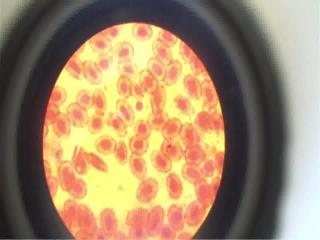cell: (165, 174, 187, 204), (99, 207, 121, 234), (66, 105, 90, 127), (182, 123, 206, 145), (136, 179, 158, 202), (78, 204, 96, 231), (166, 202, 184, 229), (83, 61, 104, 83), (173, 94, 194, 116), (131, 24, 153, 44), (160, 140, 182, 160), (150, 87, 168, 111), (69, 182, 93, 200), (153, 149, 171, 173), (114, 73, 131, 98), (152, 41, 172, 62), (53, 116, 73, 137), (76, 85, 94, 108), (64, 198, 82, 221), (118, 101, 137, 122), (114, 43, 137, 60), (86, 119, 110, 135), (129, 160, 153, 176), (184, 165, 205, 183), (92, 35, 114, 52), (92, 90, 109, 112), (185, 148, 211, 162), (158, 26, 178, 44), (65, 59, 85, 77), (130, 134, 148, 154), (166, 63, 182, 85), (146, 208, 162, 230), (164, 120, 182, 139), (127, 221, 146, 239), (94, 137, 114, 154), (188, 202, 203, 224), (185, 74, 201, 94), (149, 112, 169, 128), (118, 63, 140, 77), (117, 140, 130, 163), (50, 88, 70, 102), (150, 58, 164, 77), (96, 55, 112, 70)
